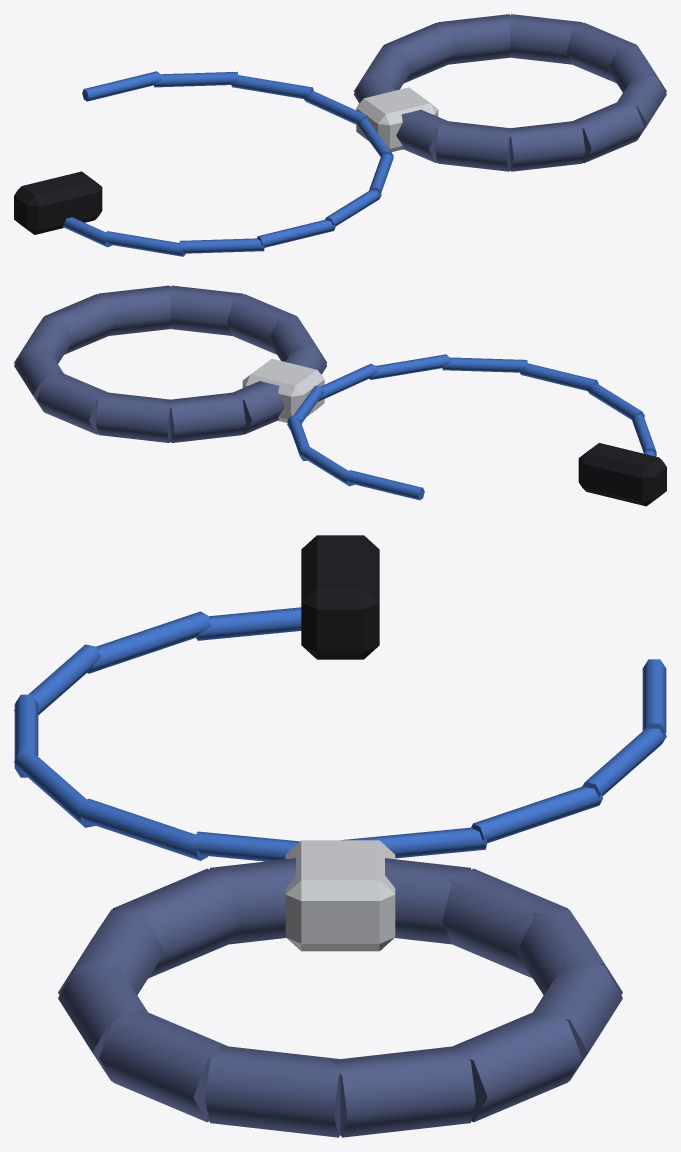
Rendered from pulseira_esd.obj.
3 renders of one model, top to bottom at view 1: azimuth 30°, elevation 25°; view 2: azimuth 150°, elevation 25°; view 3: azimuth 270°, elevation 25°, orthographic. The views are drawn at different scales.
Parts seen in each view (by area): view 1: pulseira_esd; view 2: pulseira_esd; view 3: pulseira_esd.
Part boxes in pixels (box(x1,y1,x2,y2)): pulseira_esd: box(14, 14, 666, 256); pulseira_esd: box(14, 285, 666, 506); pulseira_esd: box(14, 535, 666, 1137).
Size of the model in its own units: 0.166 by 0.0104 by 0.0832.
